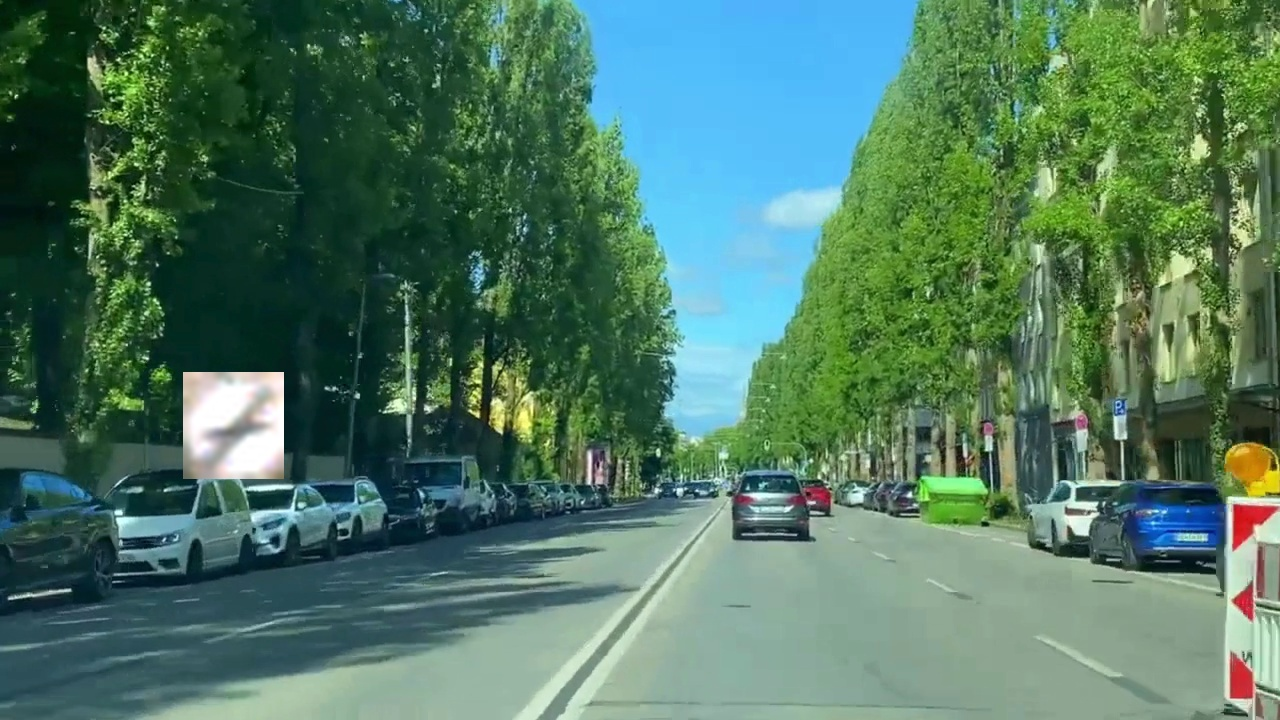End no pass: (183, 372, 284, 479)
